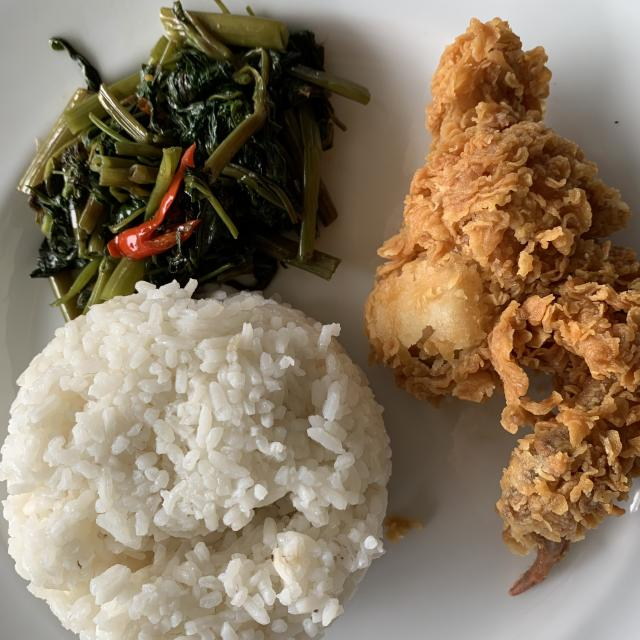Wet Waste: (360, 15, 640, 579), (1, 286, 395, 640), (9, 1, 380, 322)
